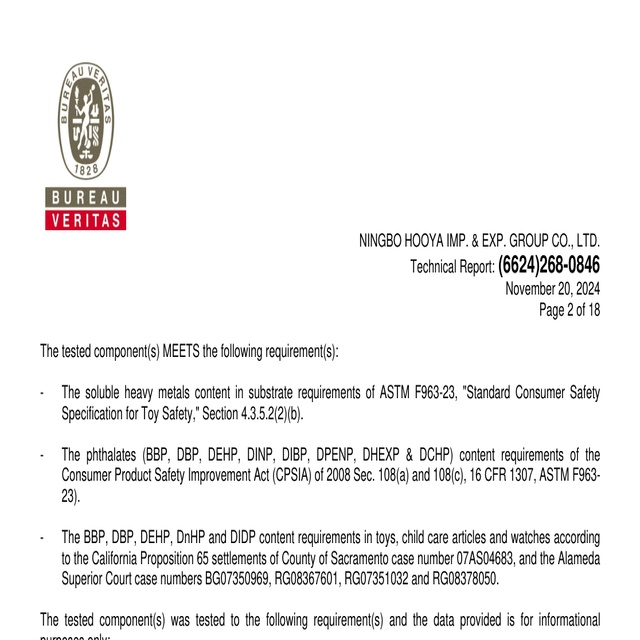bureau_veritas: (43, 60, 131, 237)
